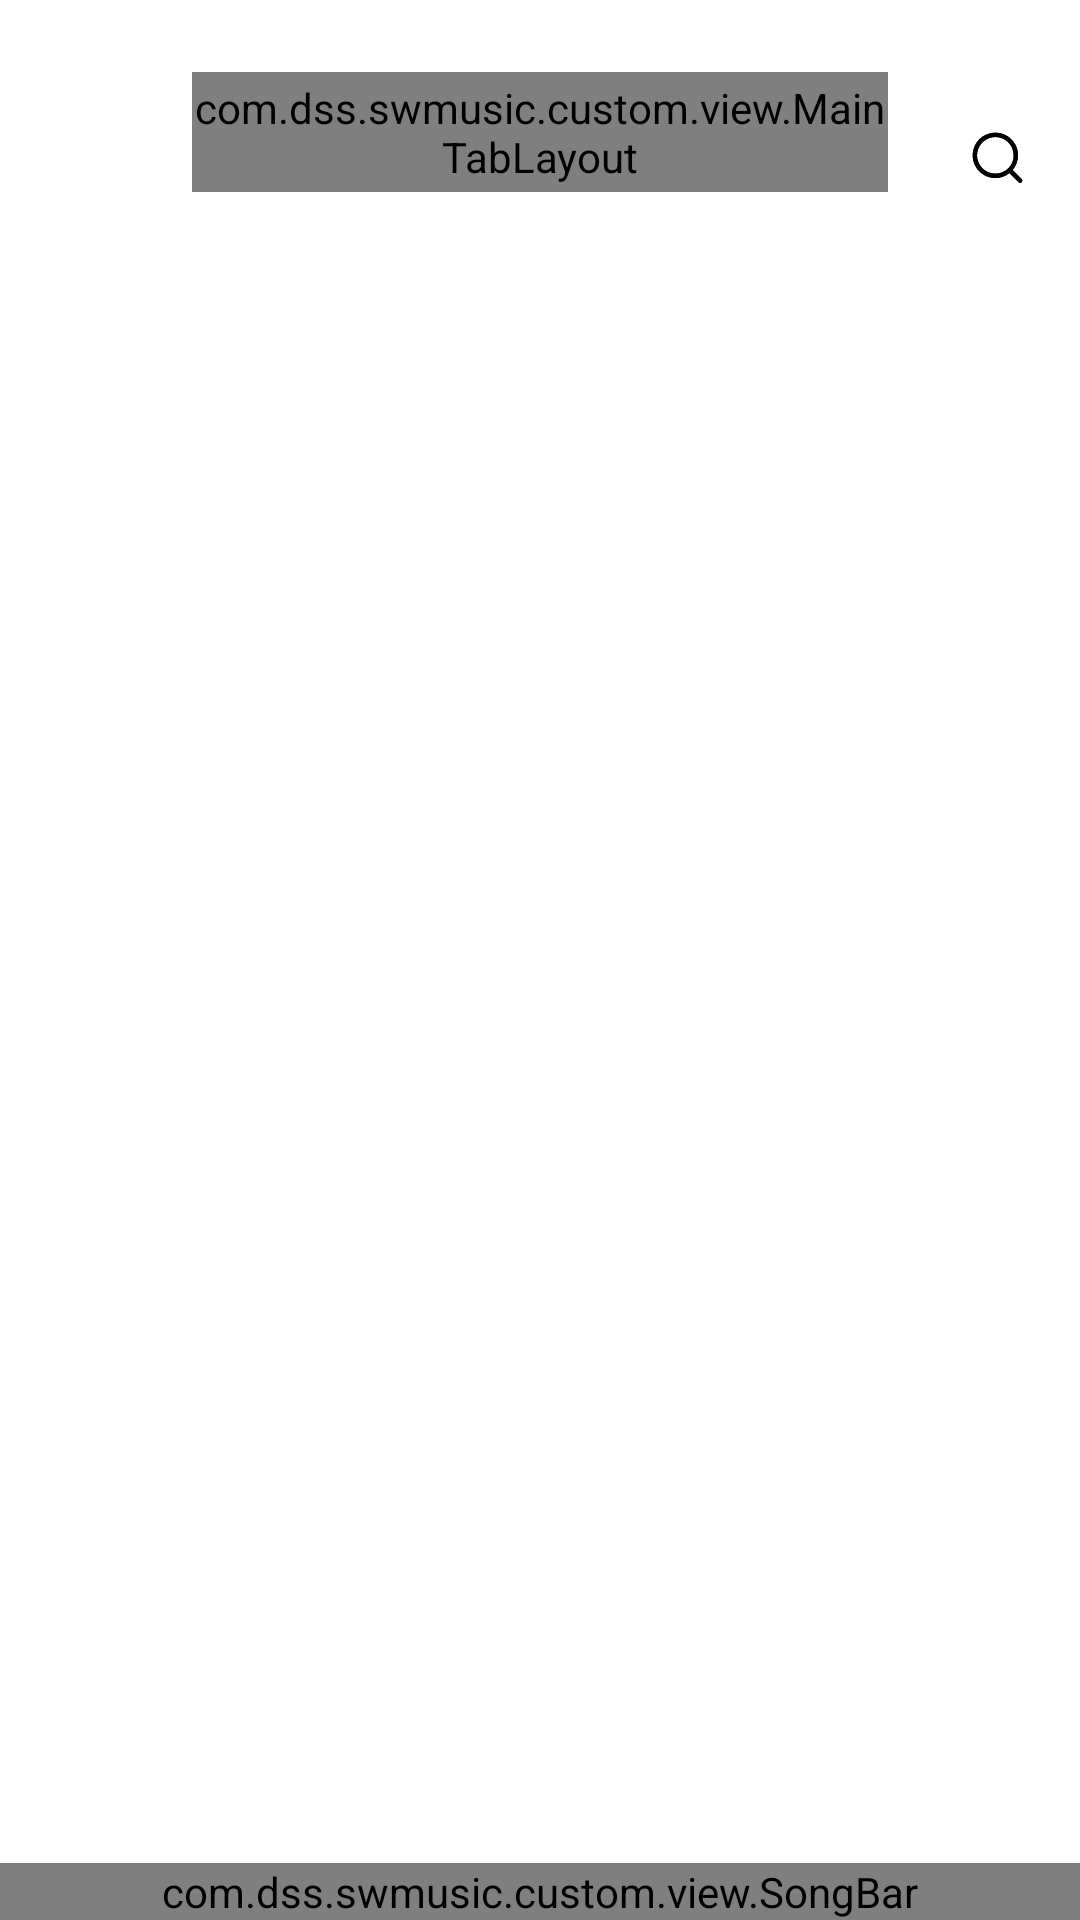

Named icons in this screenshot (1080×1920) and their bounding boxes, (x1, y1, x2, y2):
search: (972, 132, 1023, 183)
